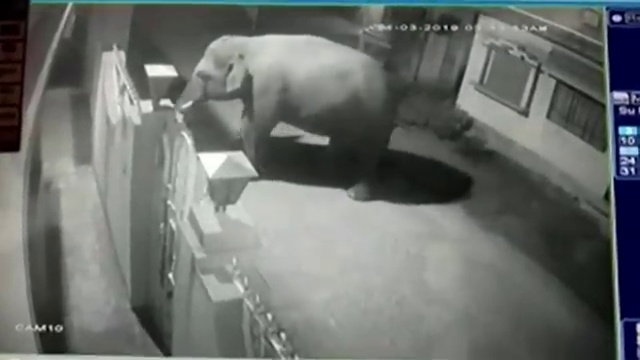Elephant: (177, 35, 393, 202)
